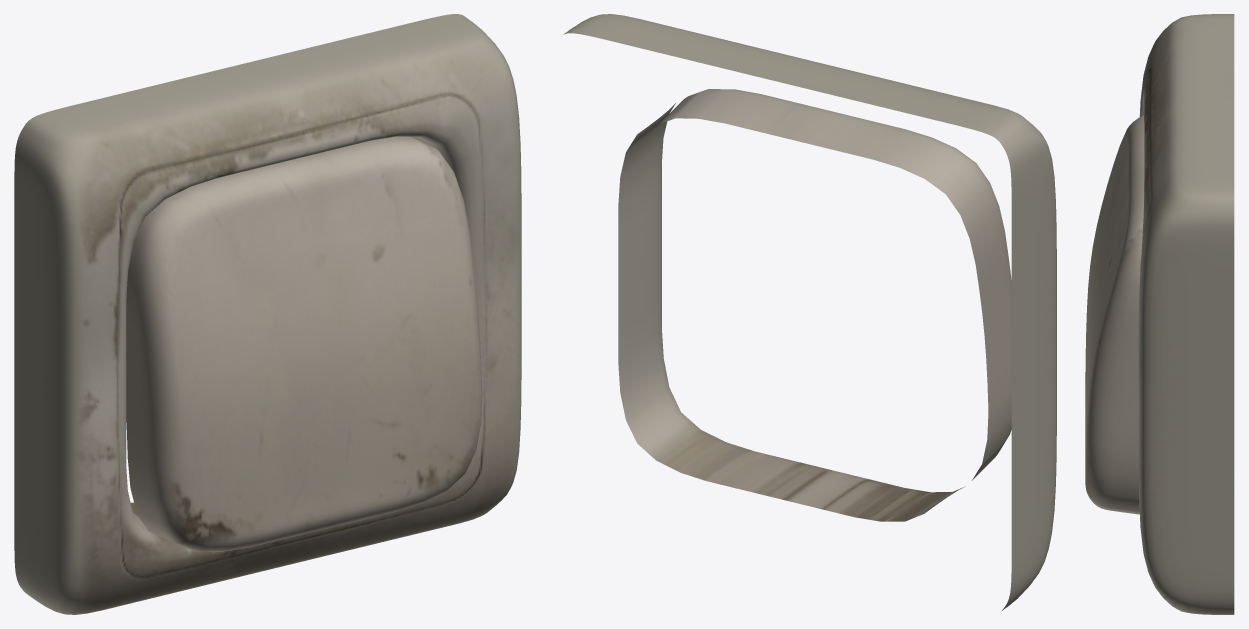
File: dirty light switch.glb
The picture shows the model from 3 angles, left to right: view 1: azimuth 30°, elevation 25°; view 2: azimuth 150°, elevation 25°; view 3: azimuth 270°, elevation 25°; orthographic projection. The views are drawn at different scales.
Parts seen in each view (by area): view 1: Object_2; view 2: Object_2; view 3: Object_2.
Boxes of the visible parts, x1,y1,x2,y2 form: Object_2: (14, 14, 521, 614); Object_2: (563, 14, 1056, 611); Object_2: (1085, 14, 1234, 614).
Size of the model in its own units: 52 by 52 by 16.64.
Materials: 1 (1 with a texture image).
